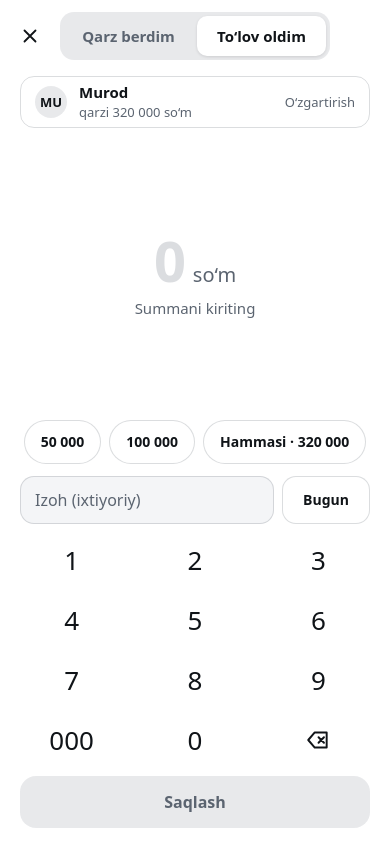
Test case: AddEntry › “Hammasi” tugmasi qoldiqni kiritadi (aniq to‘liq yopish)
Click the button "Hammasi · 320 000".
click(285, 442)  # box [203,420,366,464]
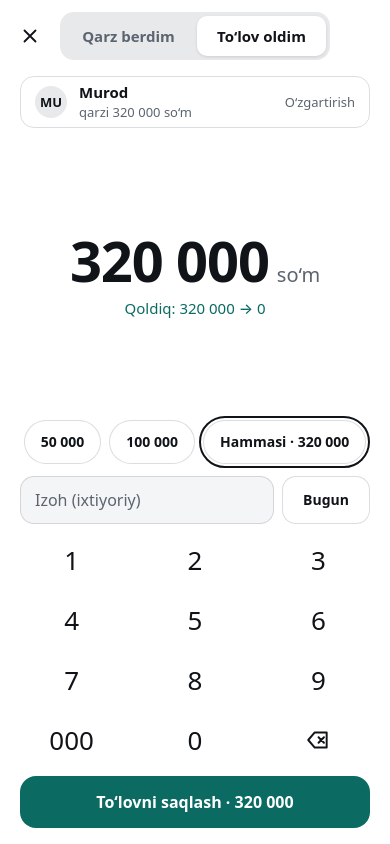
Expected: the element with test id "amount" shows "320 000", [70,222,269,298]
Expected: the text "Qoldiq: 320 000 → 0" is shown, [124,298,266,318]
Expected: the button "To‘lovni saqlash · 320 000" is enabled, [20,776,370,828]
